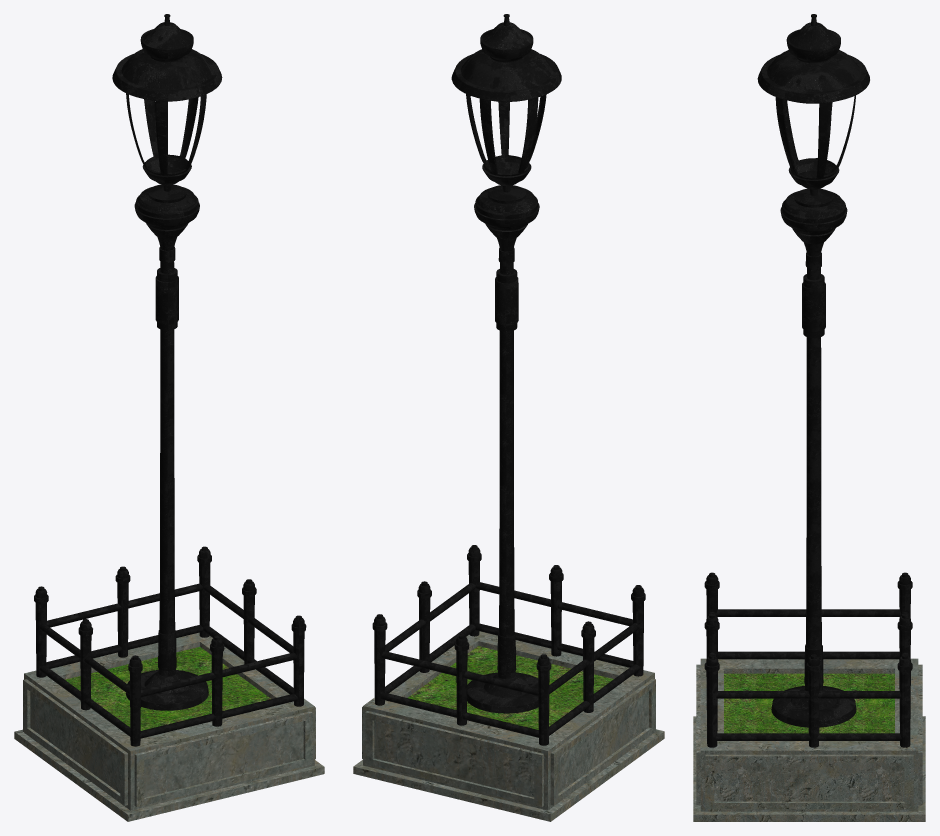
File: StreetLamp.obj
The picture shows the model from 3 angles, left to right: view 1: azimuth 30°, elevation 25°; view 2: azimuth 150°, elevation 25°; view 3: azimuth 270°, elevation 25°; orthographic projection. The views are drawn at different scales.
Visible parts, largest first — view 1: objLamp; view 2: objLamp; view 3: objLamp.
Part boxes in pixels (x1,y1,x2,y2): objLamp: (14,14,324,821); objLamp: (353,14,664,821); objLamp: (693,14,925,821).
Bounding box in the file's own units: 3.36 × 12.09 × 3.36.
3 materials, 3 textured.
